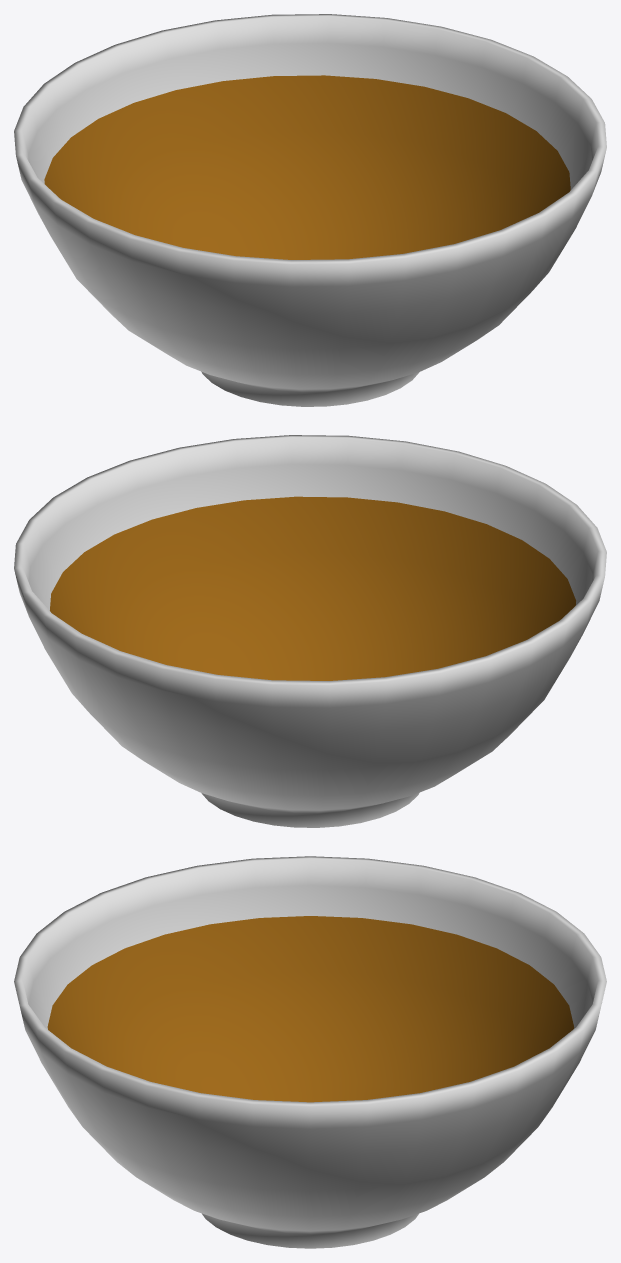
Rendered from bowl.fbx.
3 renders of one model, top to bottom at view 1: azimuth 30°, elevation 25°; view 2: azimuth 150°, elevation 25°; view 3: azimuth 270°, elevation 25°, orthographic.
Parts seen in each view (by area): view 1: 球体, 球体.001; view 2: 球体, 球体.001; view 3: 球体, 球体.001.
Boxes of the visible parts, left/top/right/bottom form: 球体: left=14, top=14, right=606, bottom=406; 球体.001: left=44, top=75, right=570, bottom=259; 球体: left=14, top=435, right=606, bottom=827; 球体.001: left=50, top=496, right=575, bottom=680; 球体: left=14, top=856, right=606, bottom=1248; 球体.001: left=47, top=916, right=574, bottom=1102.
Bounding box in the file's own units: 200 × 200 × 81.88.
